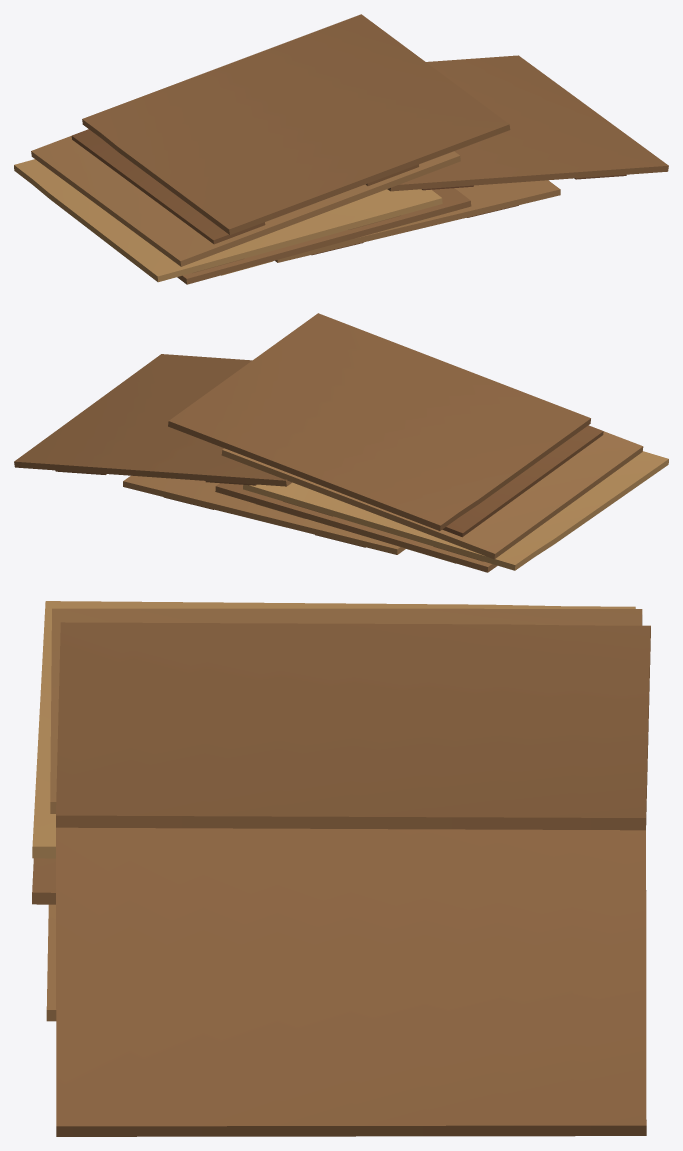
Rendered from Multiple Med Messy Light Crate Lids.fbx.
3 views of the same model, one above another, from view 1: azimuth 30°, elevation 25°; view 2: azimuth 150°, elevation 25°; view 3: azimuth 270°, elevation 25° (orthographic). The views are drawn at different scales.
Visible parts, largest first — view 1: Med Multiple Messy Light Crate Lids; view 2: Med Multiple Messy Light Crate Lids; view 3: Med Multiple Messy Light Crate Lids.
Boxes of the visible parts, bbox=[...] form: Med Multiple Messy Light Crate Lids: bbox=[14, 14, 668, 284]; Med Multiple Messy Light Crate Lids: bbox=[14, 313, 668, 572]; Med Multiple Messy Light Crate Lids: bbox=[32, 601, 650, 1136].
Size of the model in its own units: 60.77 by 201 by 379.
Materials: 1 (1 with a texture image).
